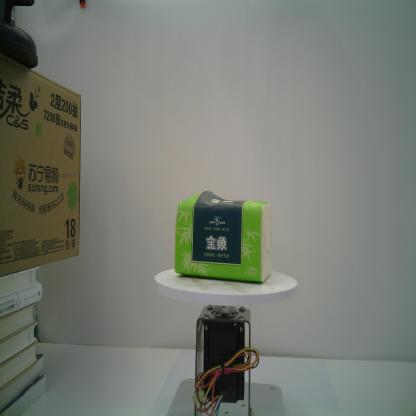Tissue: (172, 187, 274, 284)
